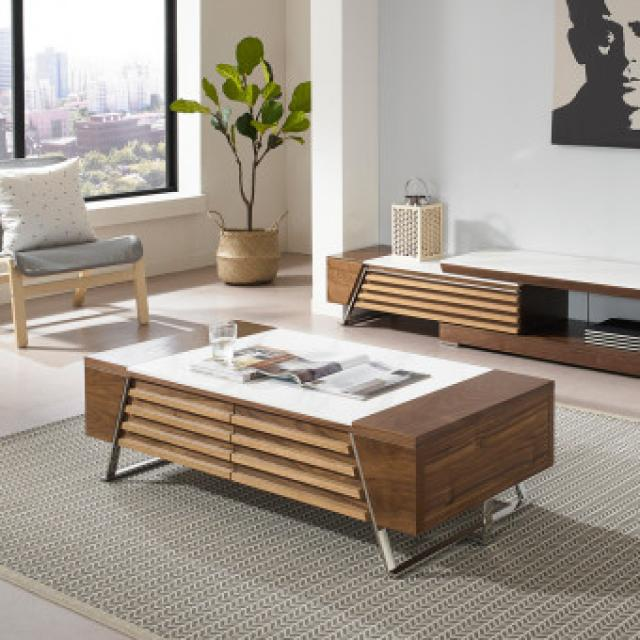Chair: (4, 162, 155, 340)
Table: (80, 311, 557, 578)
window: (0, 0, 169, 188)
